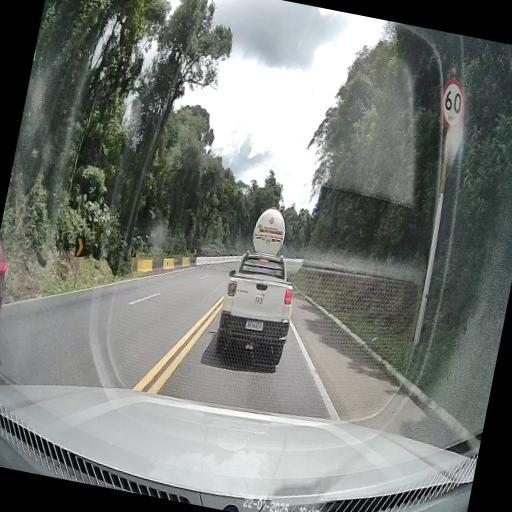R-19: (436, 77, 470, 131)
